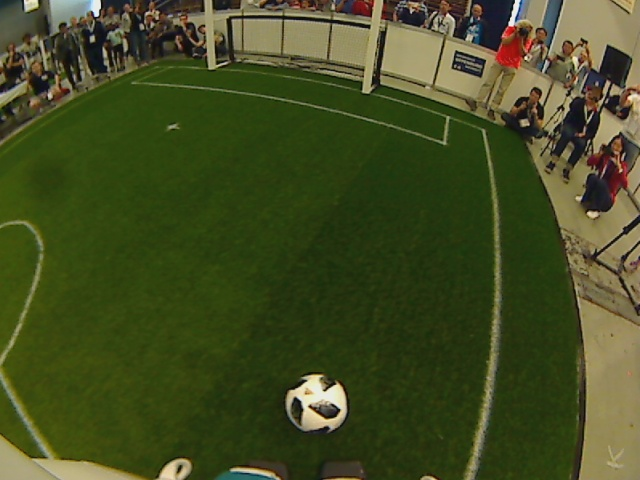ball: (282, 372, 349, 436)
